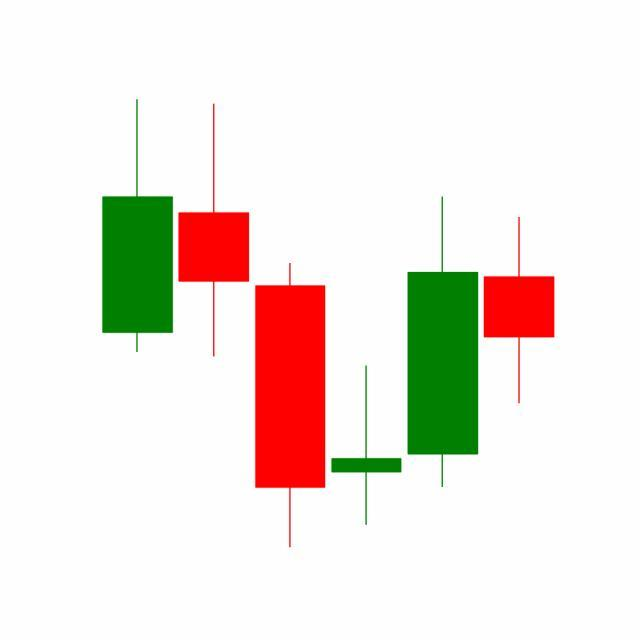Three Inside Up-Down: (252, 193, 482, 549)
